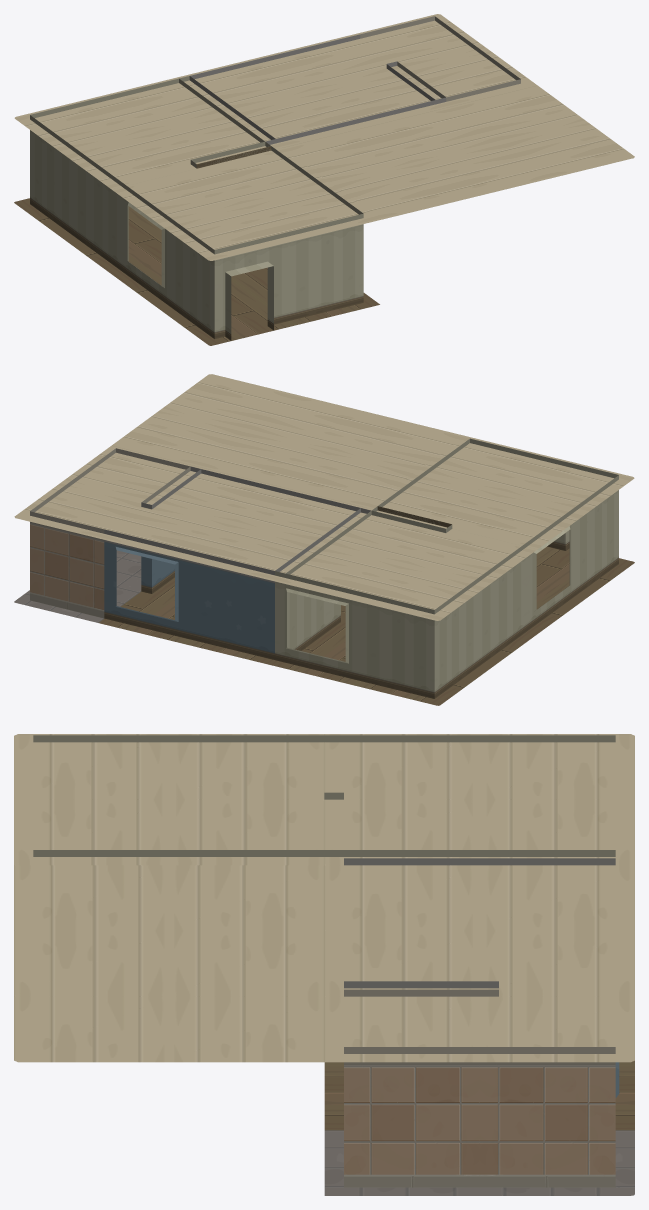
Rendered from ShootingRange_Building_Universal_Brown_In.fbx.
The picture shows the model from 3 angles, top to bottom: view 1: azimuth 30°, elevation 25°; view 2: azimuth 150°, elevation 25°; view 3: azimuth 270°, elevation 25°; orthographic projection. The views are drawn at different scales.
Parts seen in each view (by area): view 1: ShootingRange_Building_Universal_Brown_In; view 2: ShootingRange_Building_Universal_Brown_In; view 3: ShootingRange_Building_Universal_Brown_In.
Part boxes in pixels (<box>): ShootingRange_Building_Universal_Brown_In: <box>14,14,634,345</box>; ShootingRange_Building_Universal_Brown_In: <box>14,374,634,705</box>; ShootingRange_Building_Universal_Brown_In: <box>14,734,634,1195</box>.
Size of the model in its own units: 2000 by 400 by 1600.
